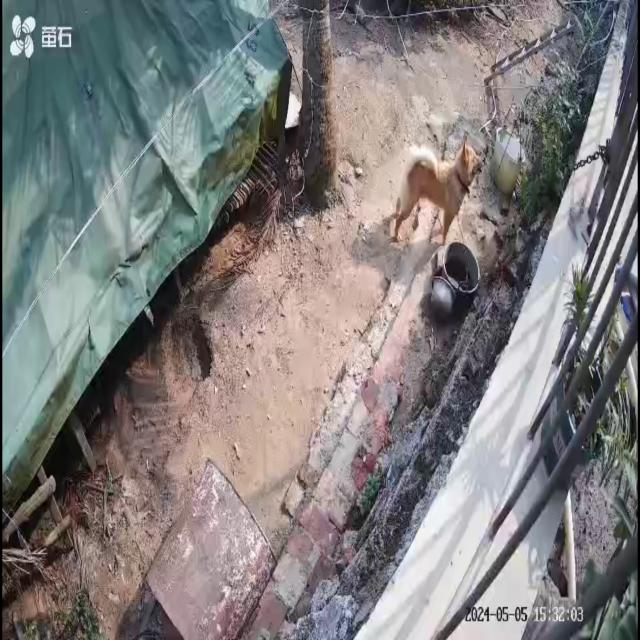dog: (392, 132, 481, 247)
